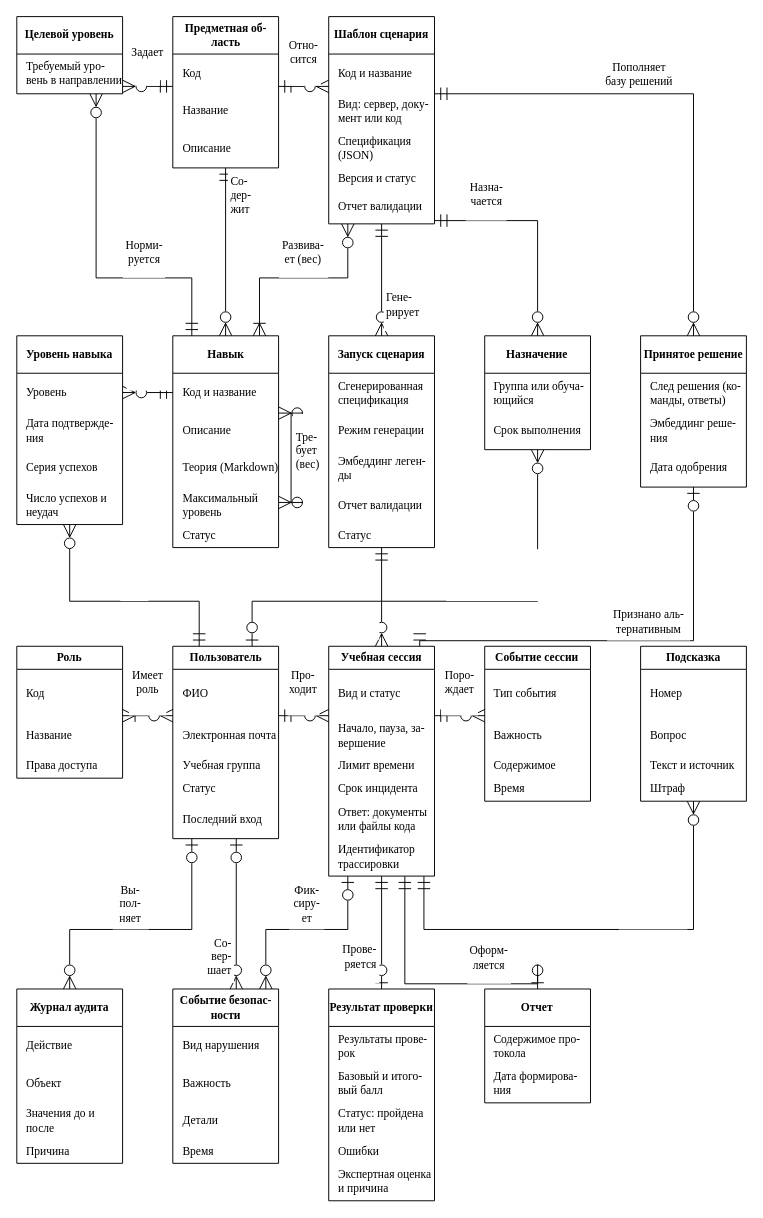
Image size: 763x1218. Some labels were removed from this diagram. Here are the shapes that lost their labels. From the top down, the centre of each, then its label:
the point at 147,364: Оце­ни­ва­ет­ся
the point at 134,575: Вла­де­ет
the point at 492,575: По­лу­ча­ет (лично или груп­пой)
the point at 353,620: За­пус­ка­ет­ся как
the point at 652,903: По­лу­ча­ет (не более 3)
